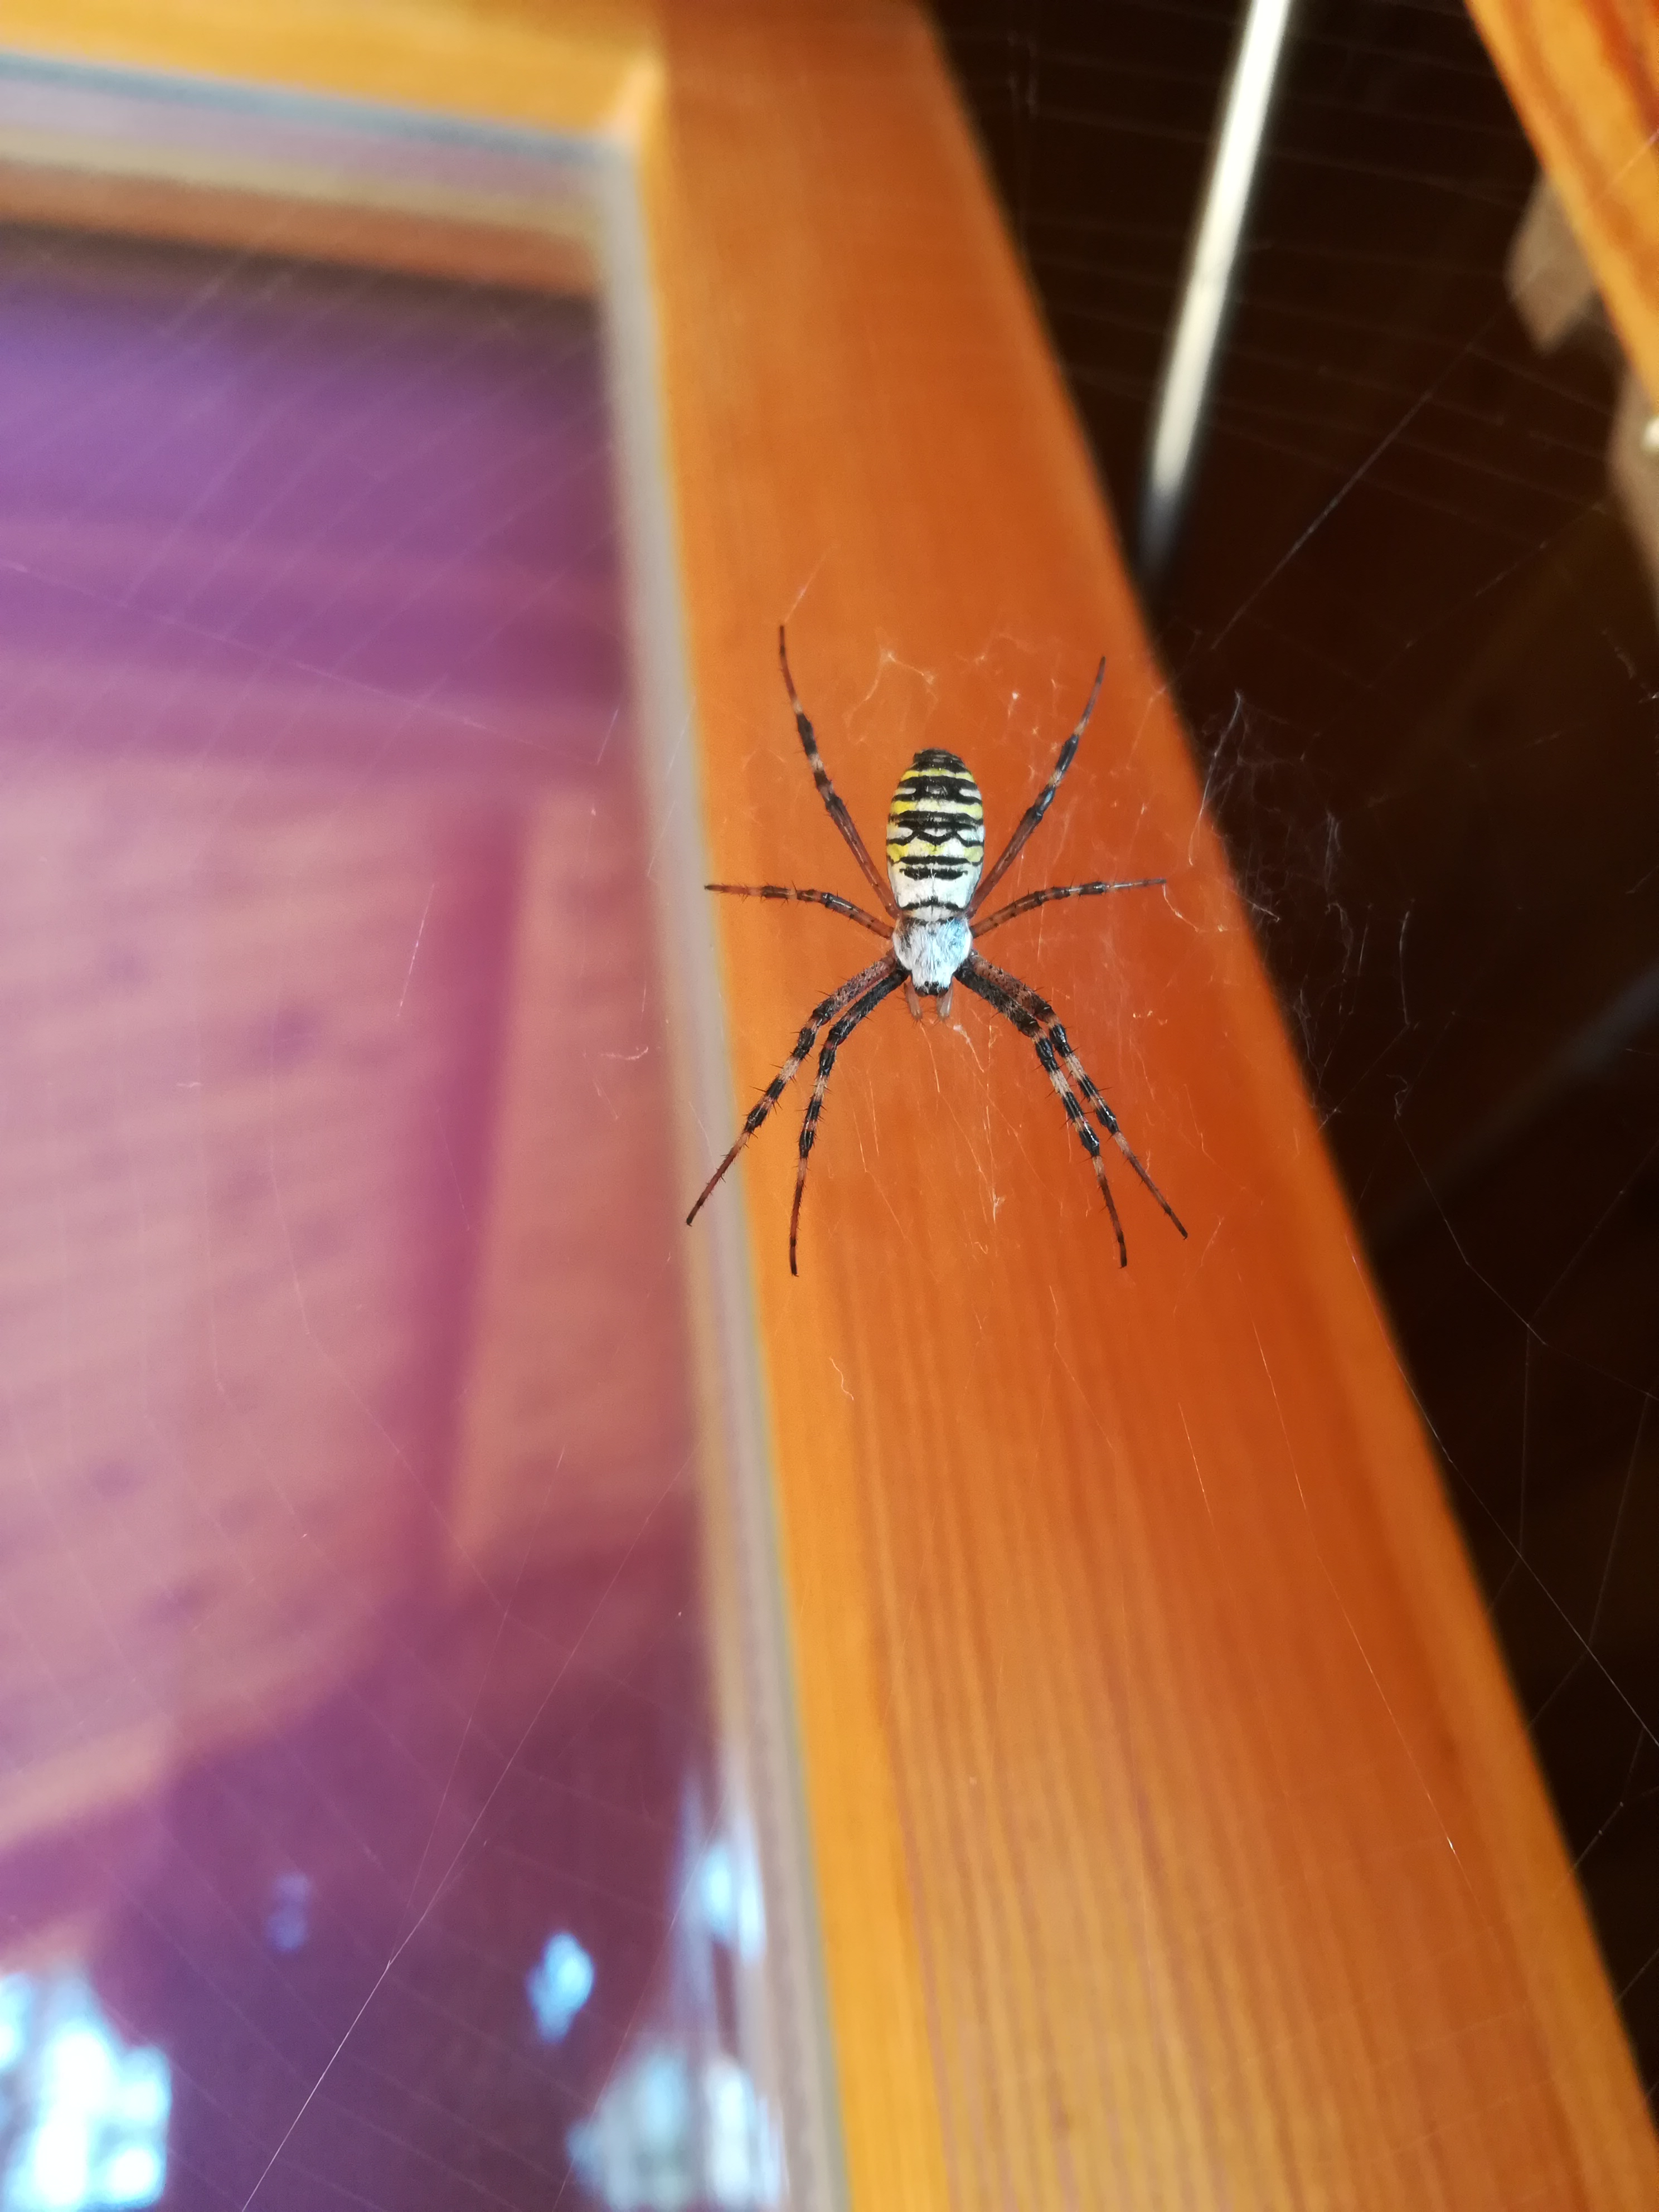spider: (615, 613, 1244, 1318)
